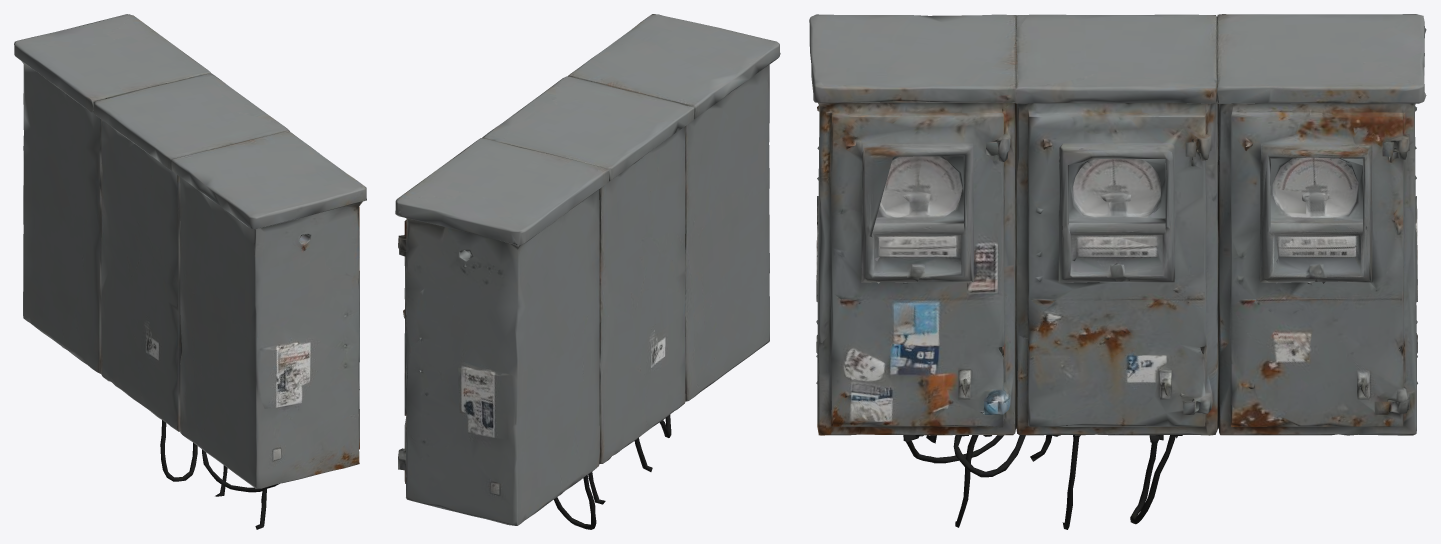
Rendered from meterbox.glb.
The picture shows the model from 3 angles, left to right: view 1: azimuth 30°, elevation 25°; view 2: azimuth 150°, elevation 25°; view 3: azimuth 270°, elevation 25°; orthographic projection. The views are drawn at different scales.
Visible parts, largest first — view 1: tripo_node_60fe0878-fa64-481f-bed0-be645462ecb9; view 2: tripo_node_60fe0878-fa64-481f-bed0-be645462ecb9; view 3: tripo_node_60fe0878-fa64-481f-bed0-be645462ecb9.
Boxes of the visible parts, x1,y1,x2,y2 form: tripo_node_60fe0878-fa64-481f-bed0-be645462ecb9: [14, 14, 366, 529]; tripo_node_60fe0878-fa64-481f-bed0-be645462ecb9: [395, 14, 780, 529]; tripo_node_60fe0878-fa64-481f-bed0-be645462ecb9: [809, 14, 1426, 529].
Bounding box in the file's own units: 0.2988 × 0.8061 × 0.95.
1 material, 1 textured.
